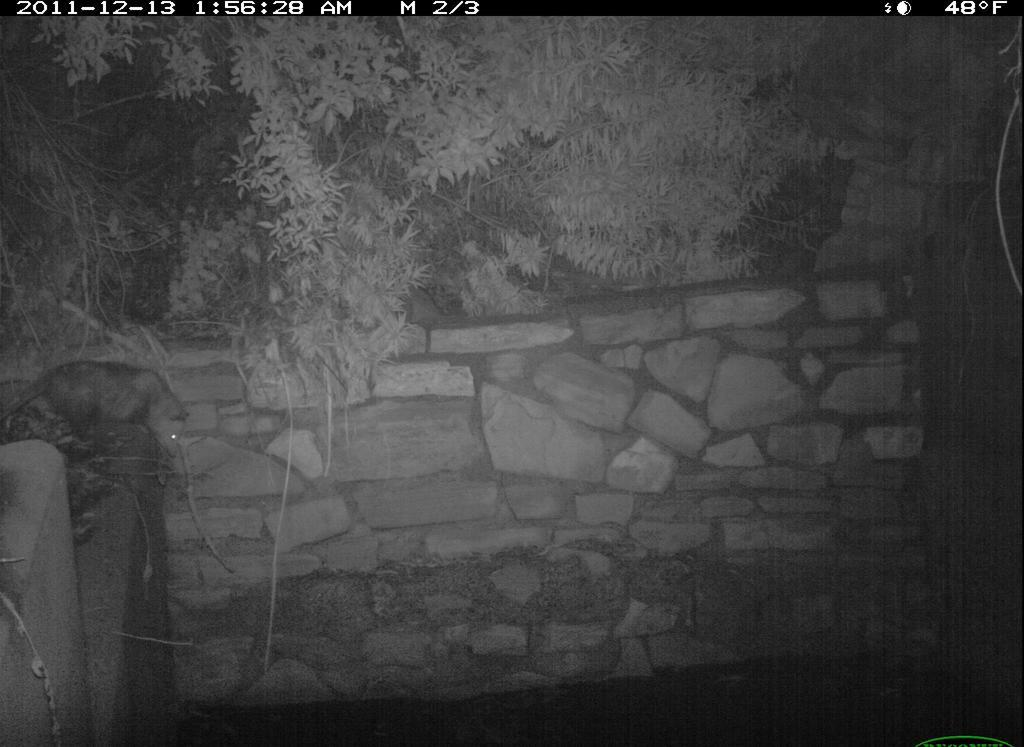opossum: (9, 341, 196, 469)
